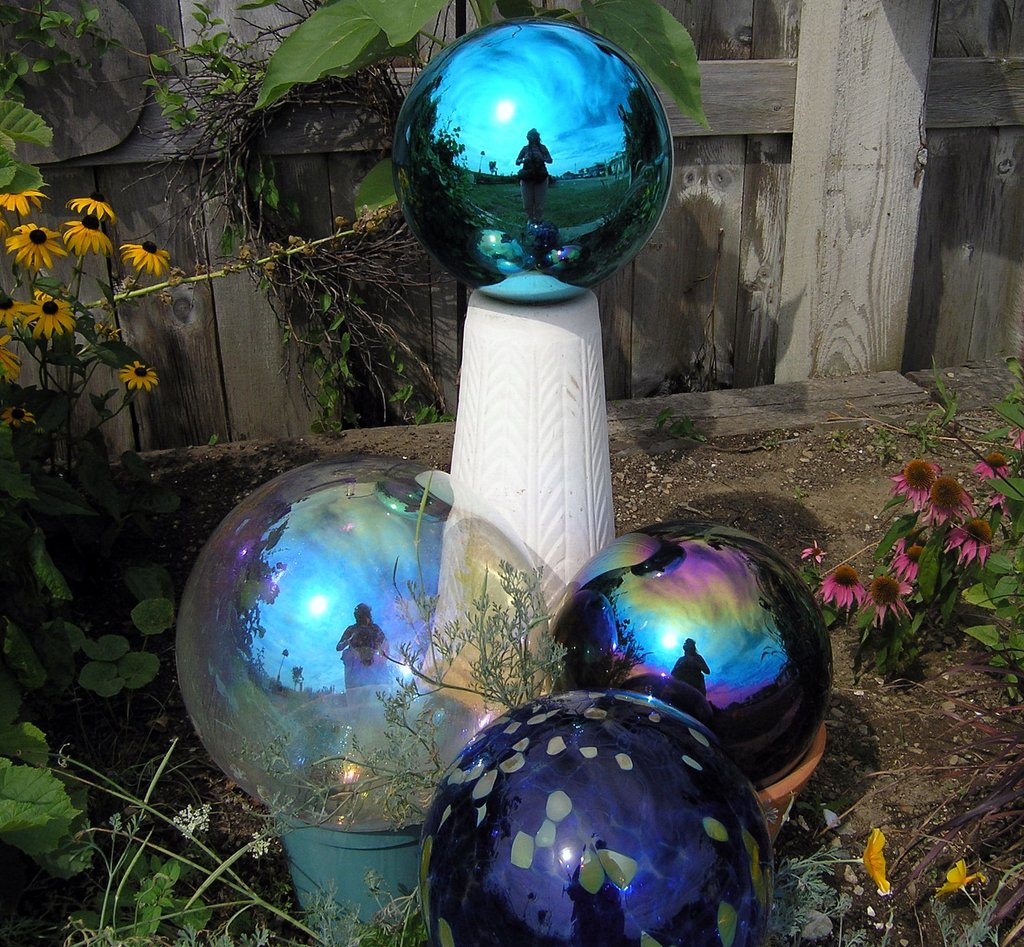Ball: (172, 449, 554, 836), (424, 688, 773, 946), (398, 26, 676, 311), (564, 518, 826, 787)
